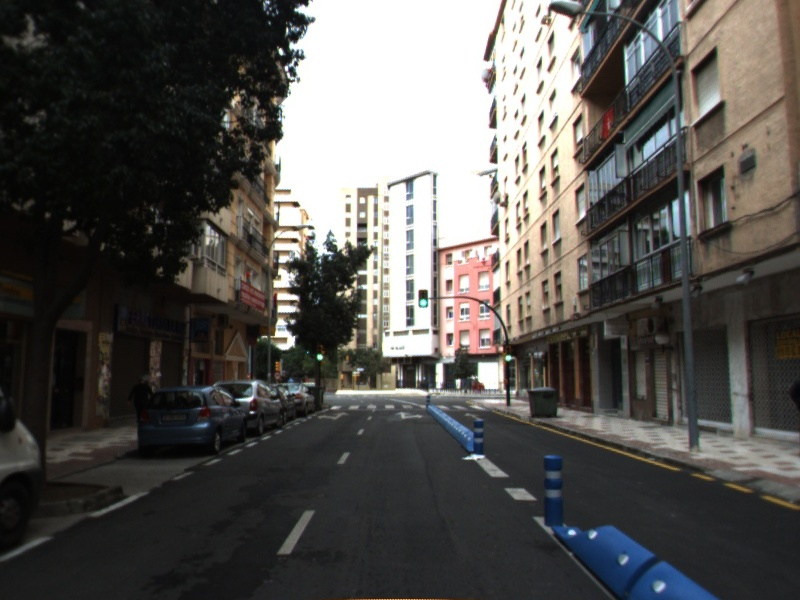STRAIGHT: (462, 411, 485, 422)
STRAIGHT_LEFT: (316, 411, 351, 421)
STRAIGHT_RIGHT: (393, 410, 425, 421)
